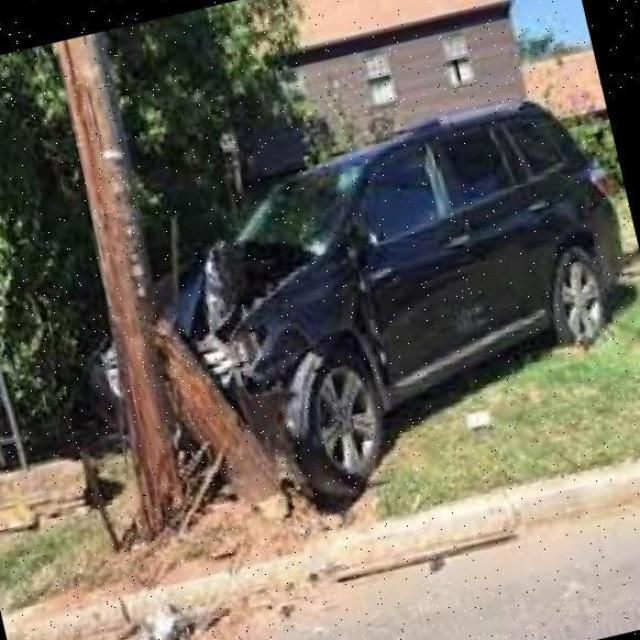accident: (48, 72, 640, 548)
